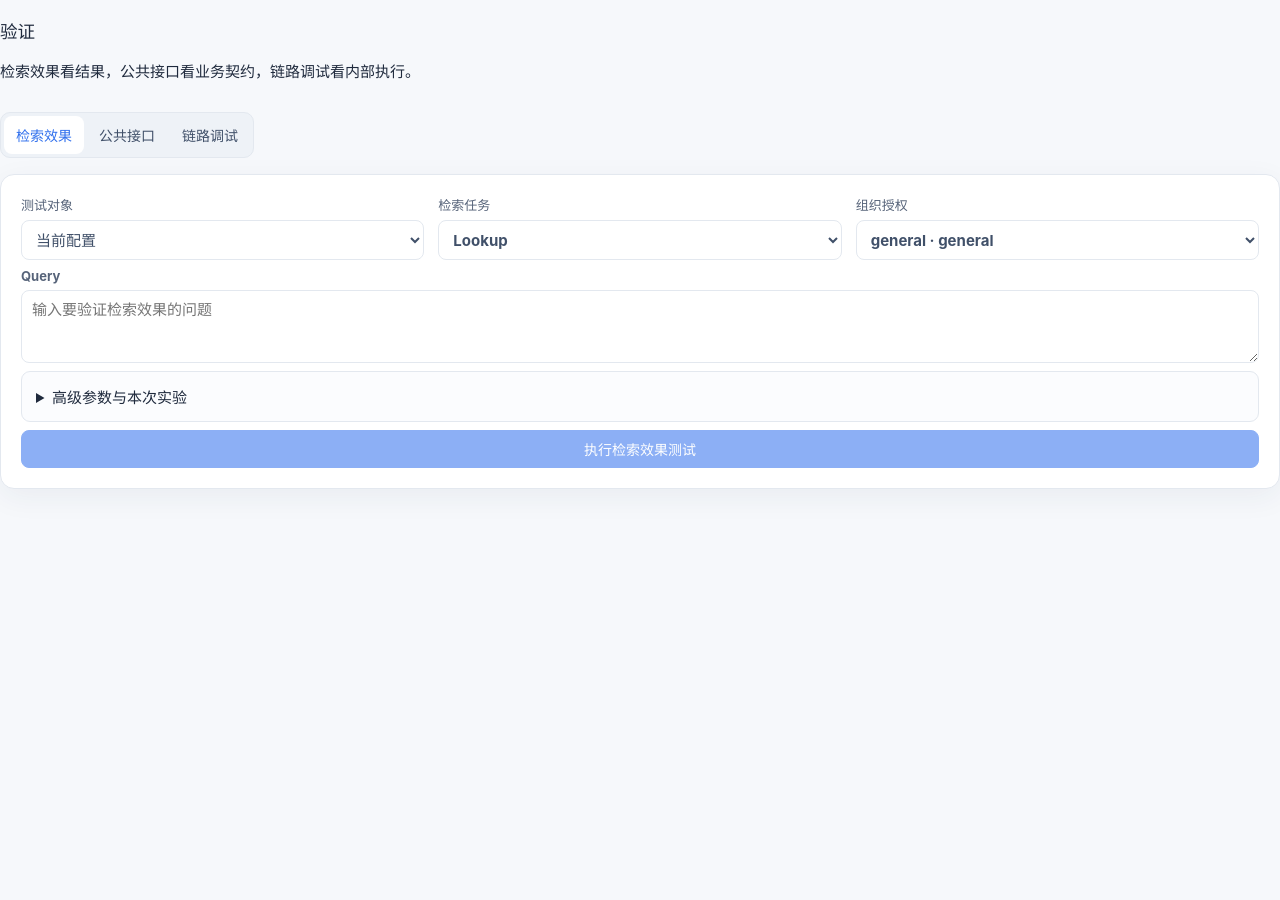
Test: three-level retrieval validation › defaults to draft retrieval effect and shows result layers
The image size is (1280, 900).
Type "question" into the text box labelled "Query".
click(640, 327); type("question")  # box [21, 290, 1259, 363]
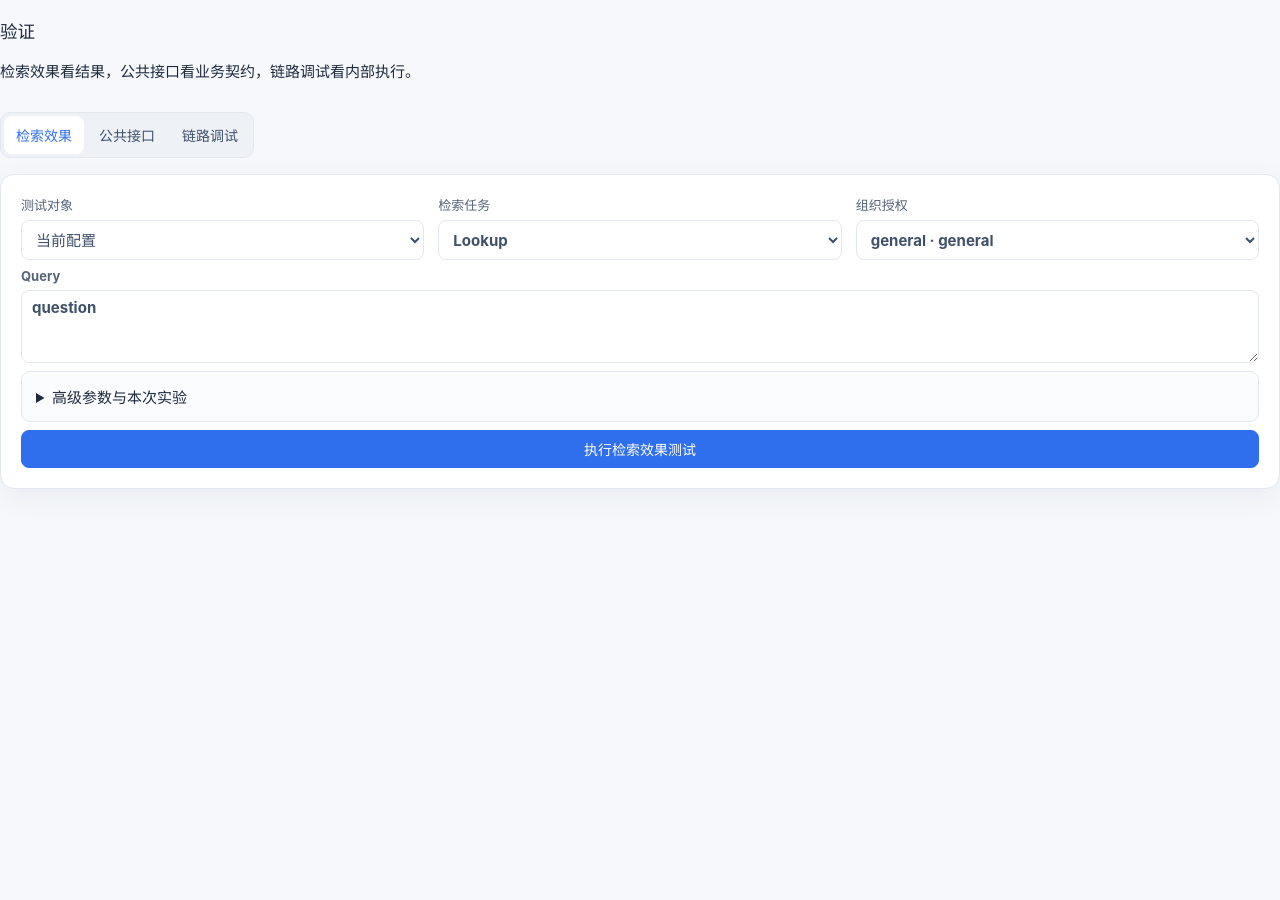
Submit the form, box [0, 174, 1279, 489]
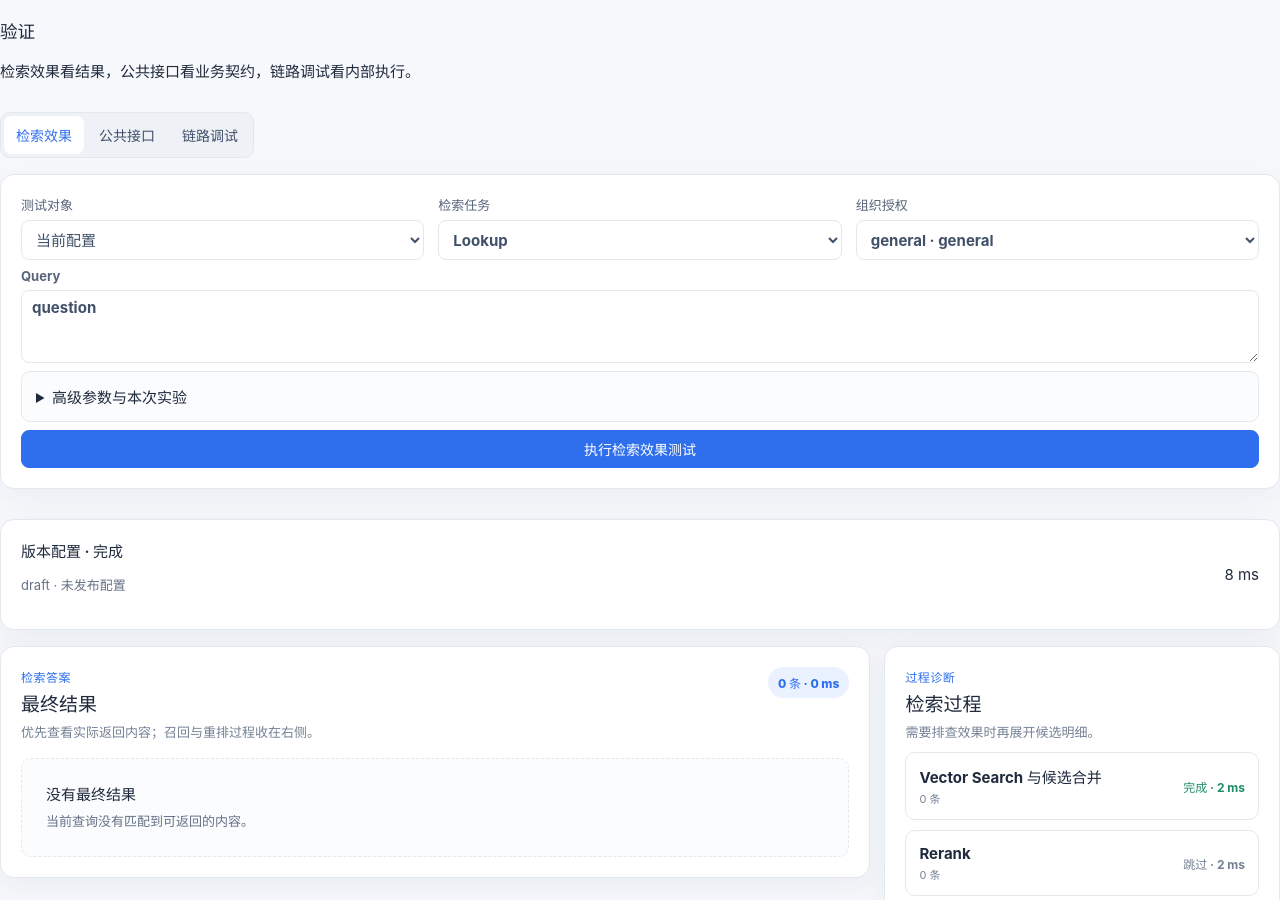
Expected: the text "Vector Search 与候选合并" is shown, [919, 766, 1102, 787]
